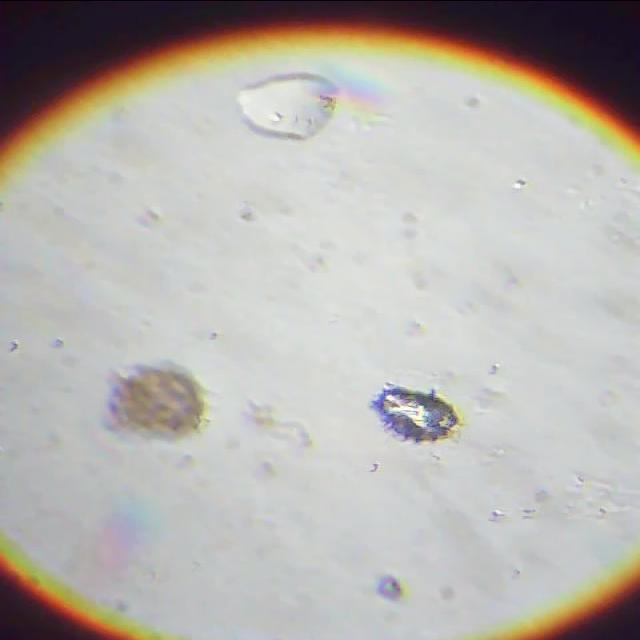alexandrium: (92, 358, 206, 438)
alexandrium minutum: (365, 364, 459, 448)
